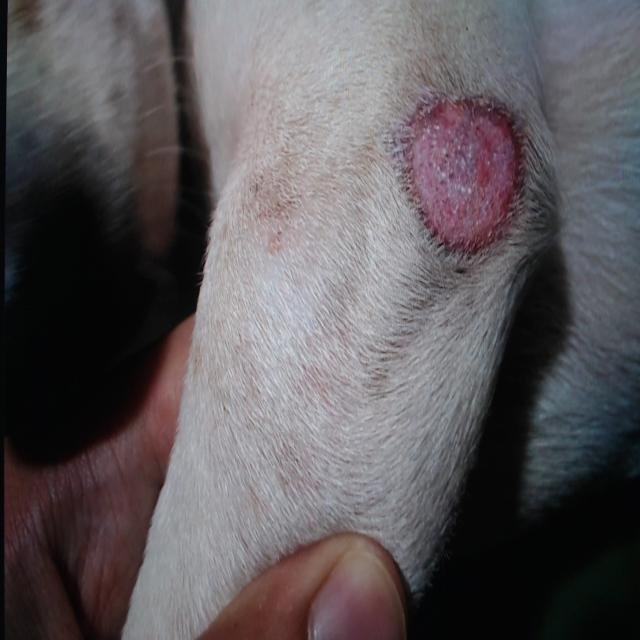ringworm: (381, 46, 528, 263)
